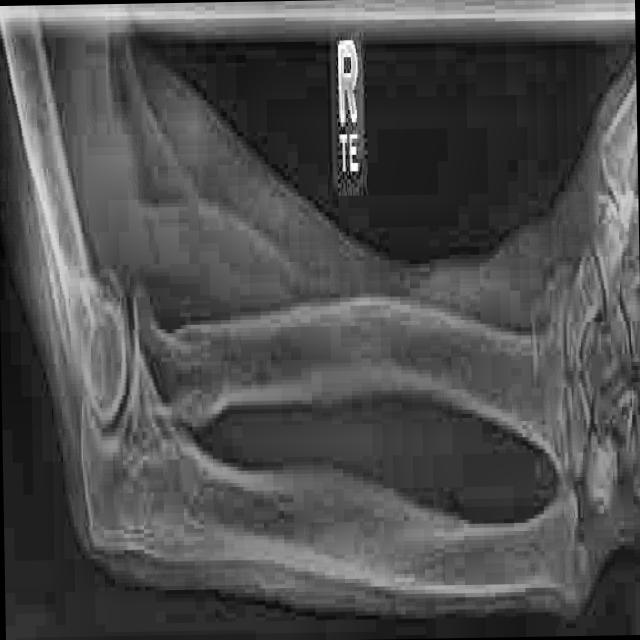forearm fracture: (502, 279, 546, 419)
